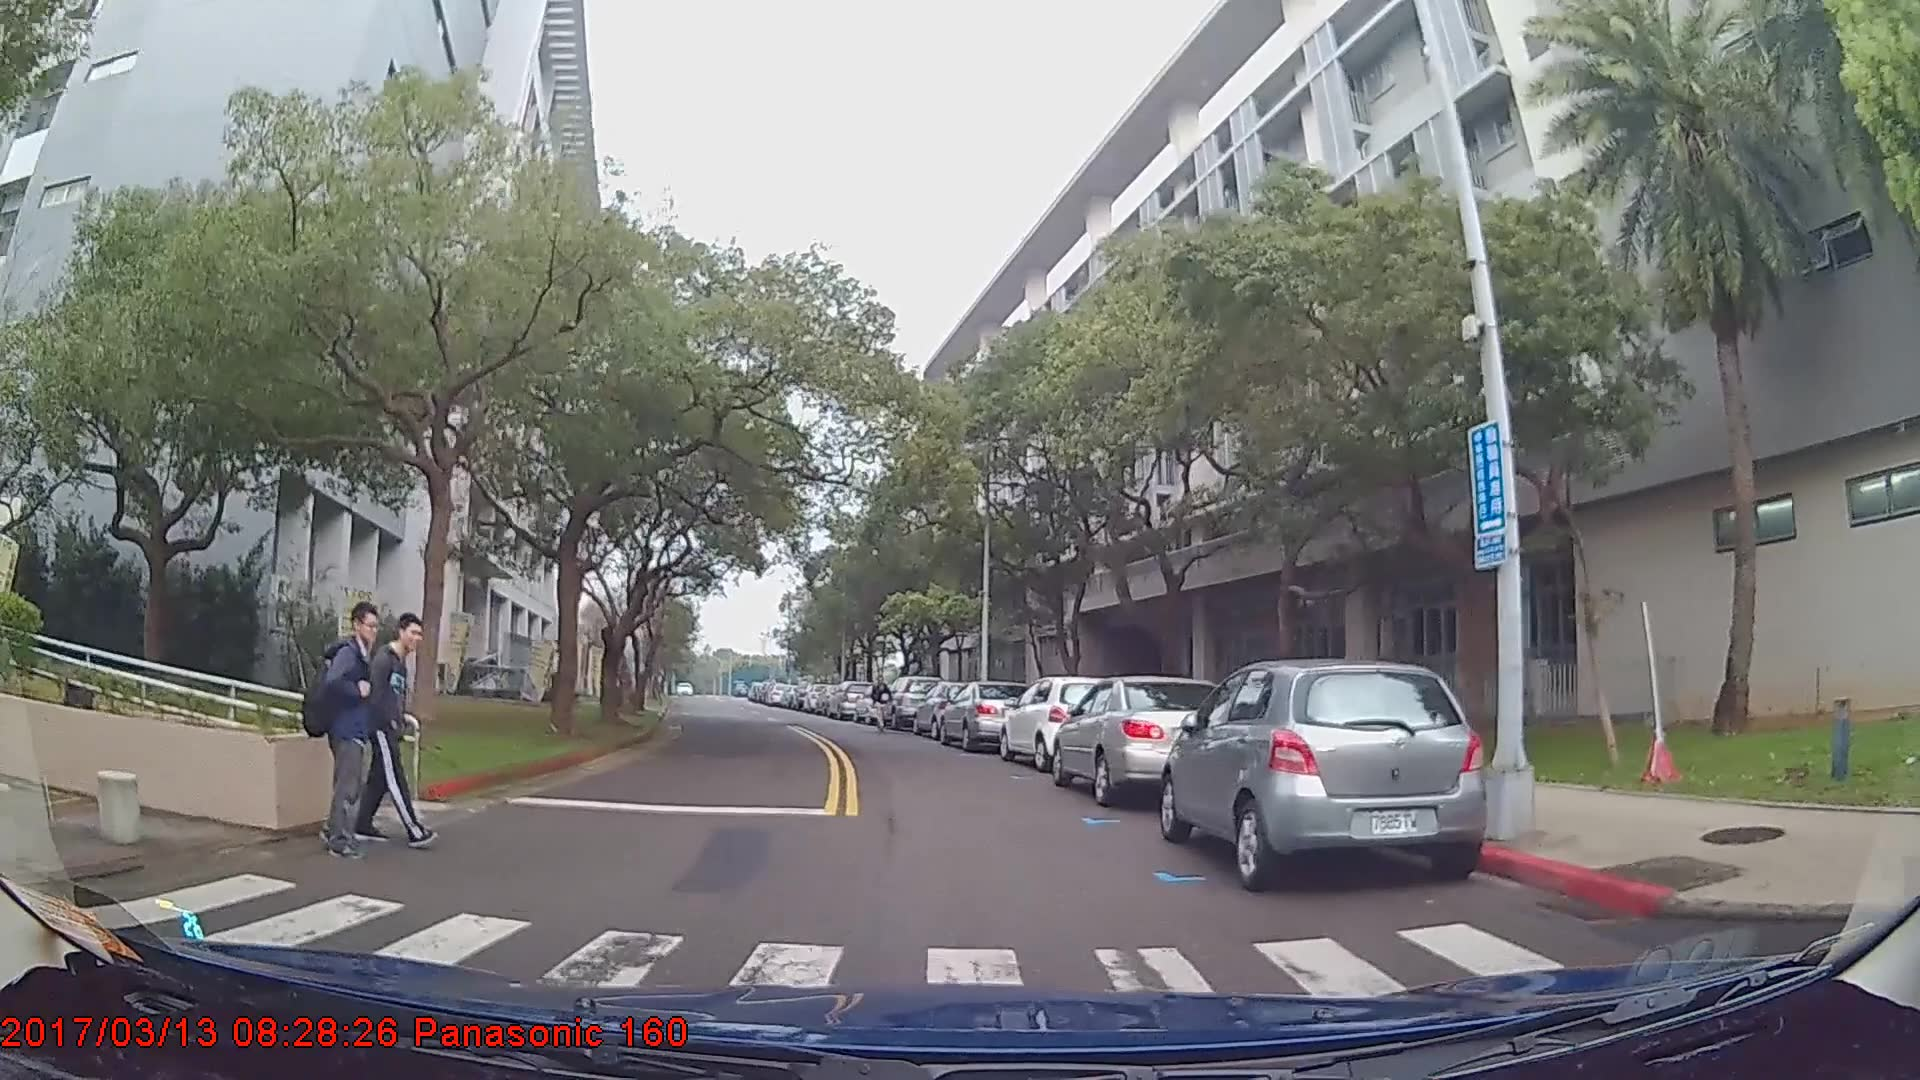pedestrian: (287, 607, 387, 868), (347, 614, 439, 857), (871, 675, 894, 736)
vehicle: (1161, 657, 1490, 896), (1051, 677, 1245, 808), (998, 675, 1122, 773), (937, 678, 1034, 751), (913, 679, 990, 740), (877, 674, 941, 729), (828, 680, 878, 719)
